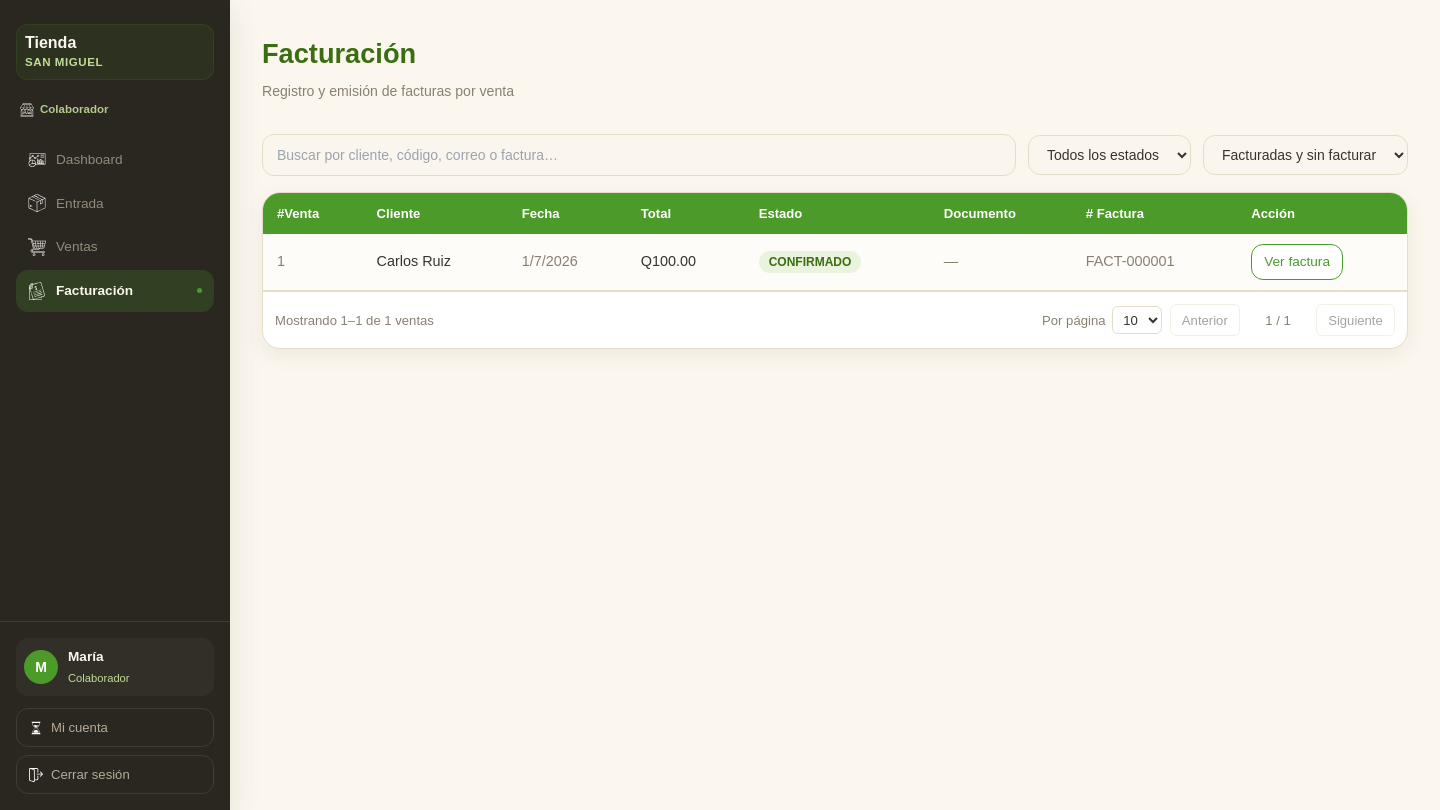
Scenario: FacturacionPage › shows a 'Ver factura' button for already-invoiced sales, and opens the detail on click
Check: the text "Carlos Ruiz" is shown, box [363,234,508,290]
Click the button "Ver factura": (1297, 262) [1251,244,1343,280]
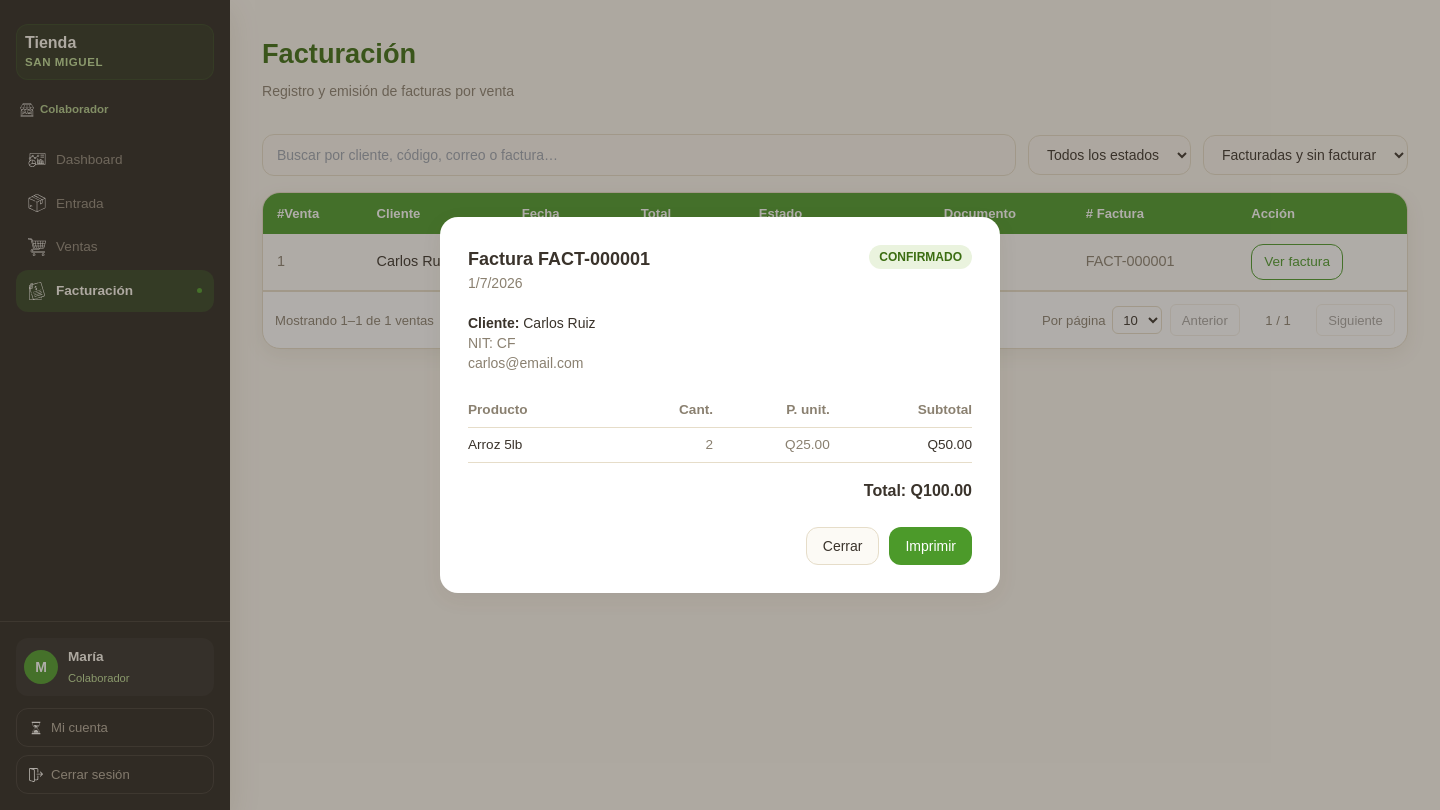
Check: the heading "Factura FACT-000001" is shown, box [468,245,650,273]
Check: the text "Arroz 5lb" is shown, box [468,428,624,462]
Check: the text "Total: Q100.00" is shown, box [864,479,972,503]
Click the button "Cerrar": (843, 546) [806,527,880,565]
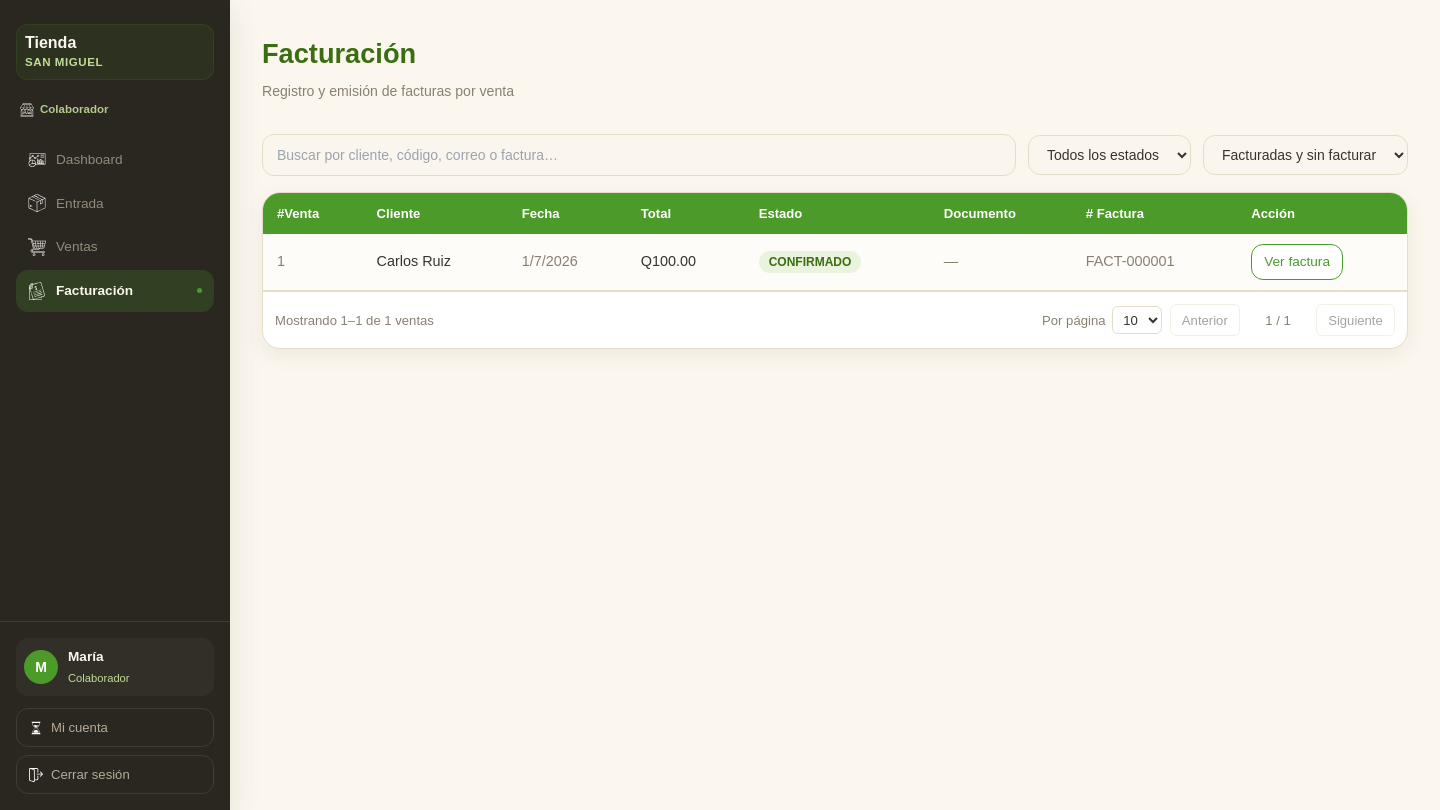
Check: the heading "Factura FACT-000001" is gone
